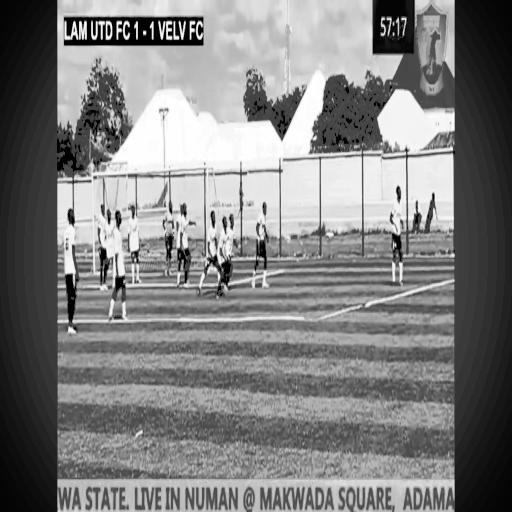keeper2: (164, 194, 176, 278)
team1: (61, 199, 85, 341), (93, 191, 109, 293), (181, 195, 191, 290), (230, 202, 238, 300), (220, 212, 229, 293)
team2: (110, 211, 130, 327), (386, 179, 406, 292), (256, 196, 272, 293), (126, 198, 144, 284), (202, 206, 218, 292)
